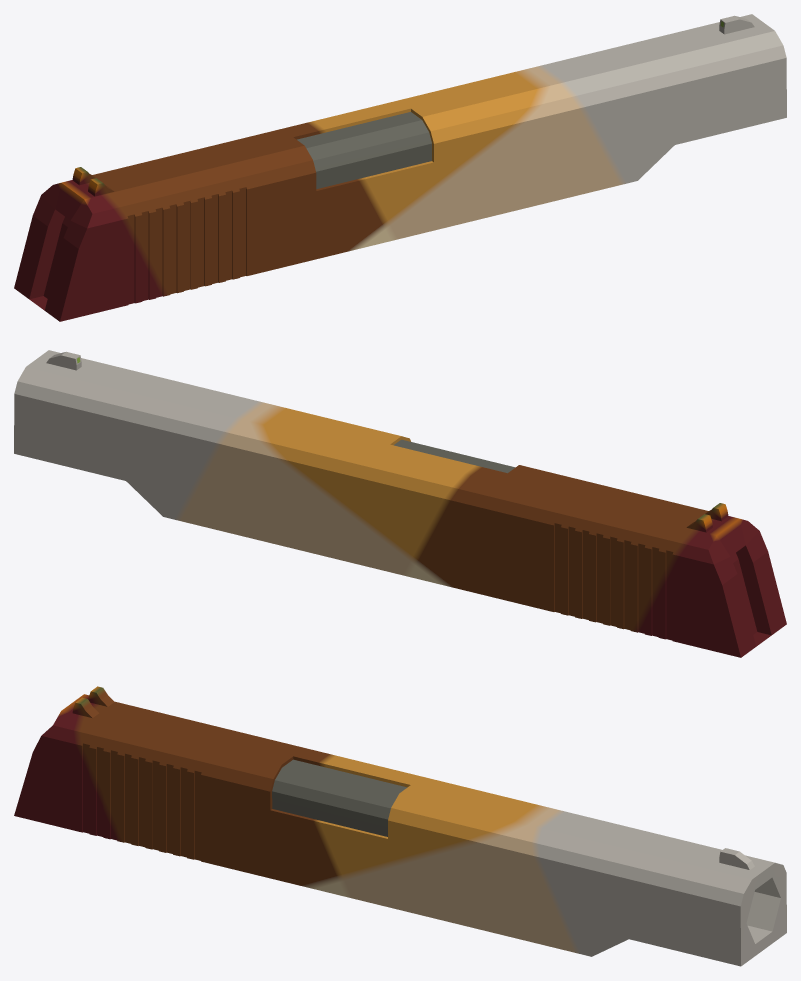
File: Pistol2_03_2.fbx
3 views of the same model, one above another, from view 1: azimuth 30°, elevation 25°; view 2: azimuth 150°, elevation 25°; view 3: azimuth 330°, elevation 25° (orthographic).
Parts seen in each view (by area): view 1: Pistol2_03_2; view 2: Pistol2_03_2; view 3: Pistol2_03_2.
Boxes of the visible parts, <box> form: Pistol2_03_2: <box>14,14,786,321</box>; Pistol2_03_2: <box>14,350,786,657</box>; Pistol2_03_2: <box>14,686,786,966</box>.
Size of the model in its own units: 0.225 by 0.0345 by 0.0246.
